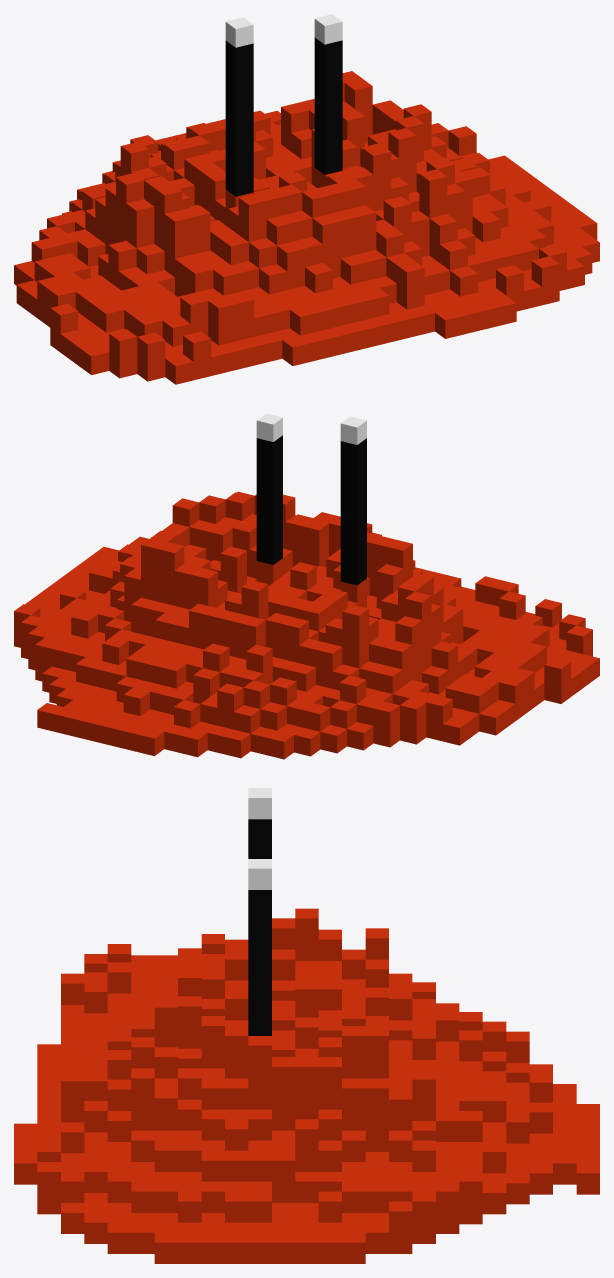
File: blob.obj
The picture shows the model from 3 angles, top to bottom: view 1: azimuth 30°, elevation 25°; view 2: azimuth 150°, elevation 25°; view 3: azimuth 270°, elevation 25°; orthographic projection. The views are drawn at different scales.
Bounding box in the file's own units: 0.9062 × 0.4375 × 0.7812.
Materials: 1 (1 with a texture image).
